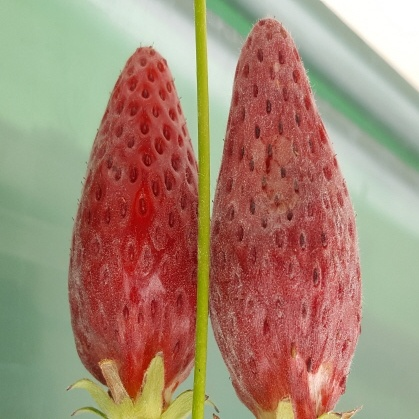Powdery_Fruit: (208, 0, 364, 402), (68, 15, 201, 375)
